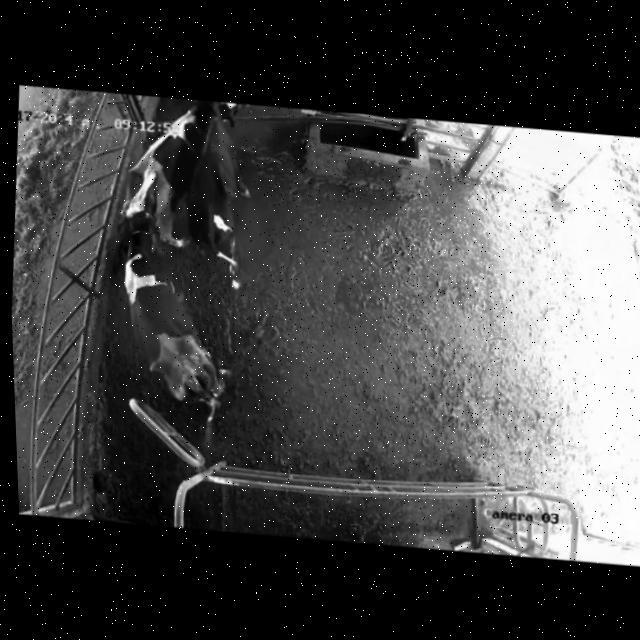stand: (96, 203, 237, 416), (108, 84, 208, 236), (191, 89, 273, 254)
